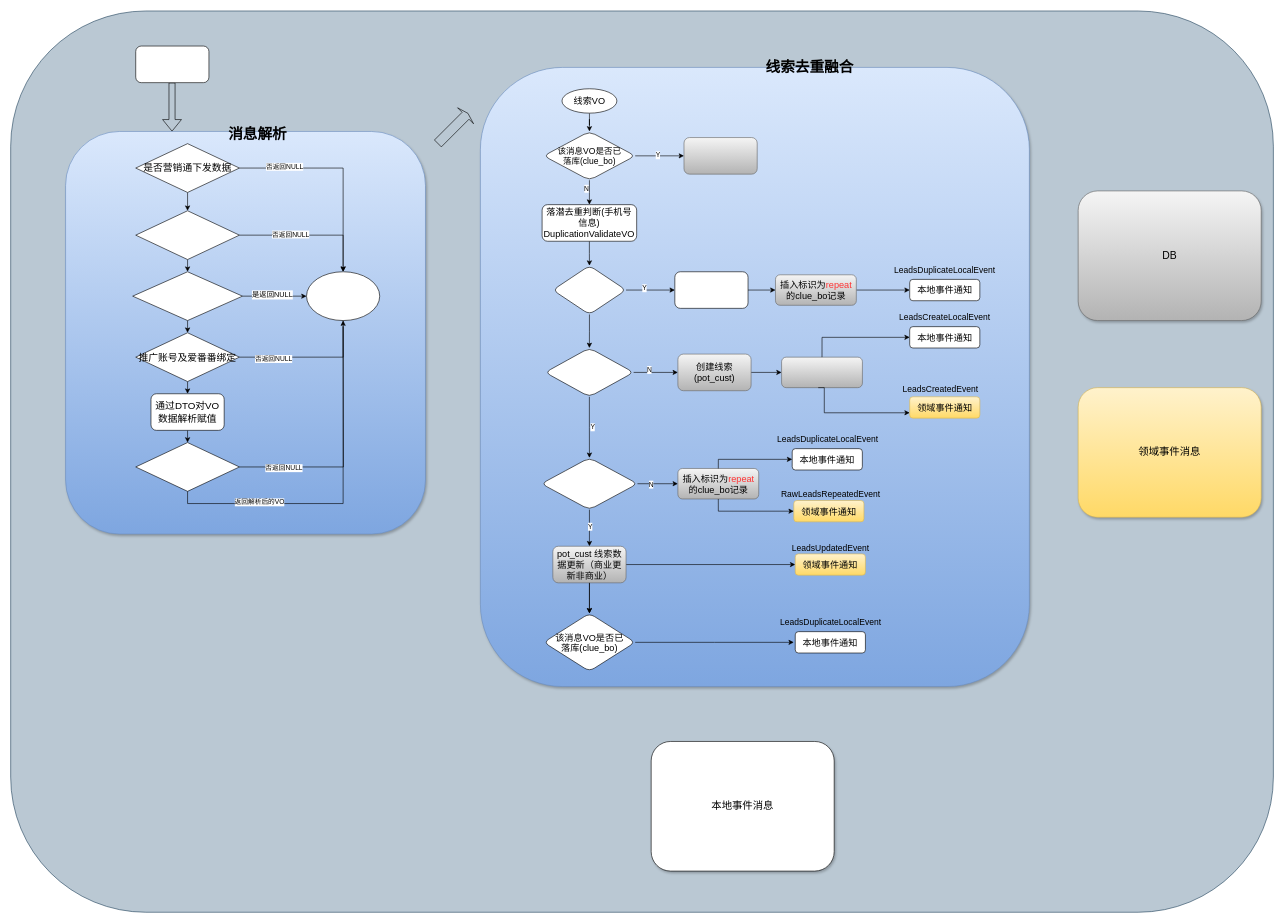
The diagram is 1284 pixels wide and 923 high, and some of its shapes have lost their labels. Here are the shapes that lost their labels. From the top down, the centre of each, then its label:
At point 172,64: "营销通BP消息".
At point 720,155: "clue_bo 更新处理".
At point 187,235: "是否规定组件类型".
At point 187,296: "是否是否商桥数据".
At point 343,296: "返回线索VO".
At point 589,289: "命中客户重复".
At point 711,289: "客户重复逻辑处理".
At point 589,372: "命中线索数据重复".
At point 821,372: "新增clue_bo记录".
At point 187,466: "是否包含联系方式".
At point 589,483: "已有线索非商业， 该消息VO为商业消息".
